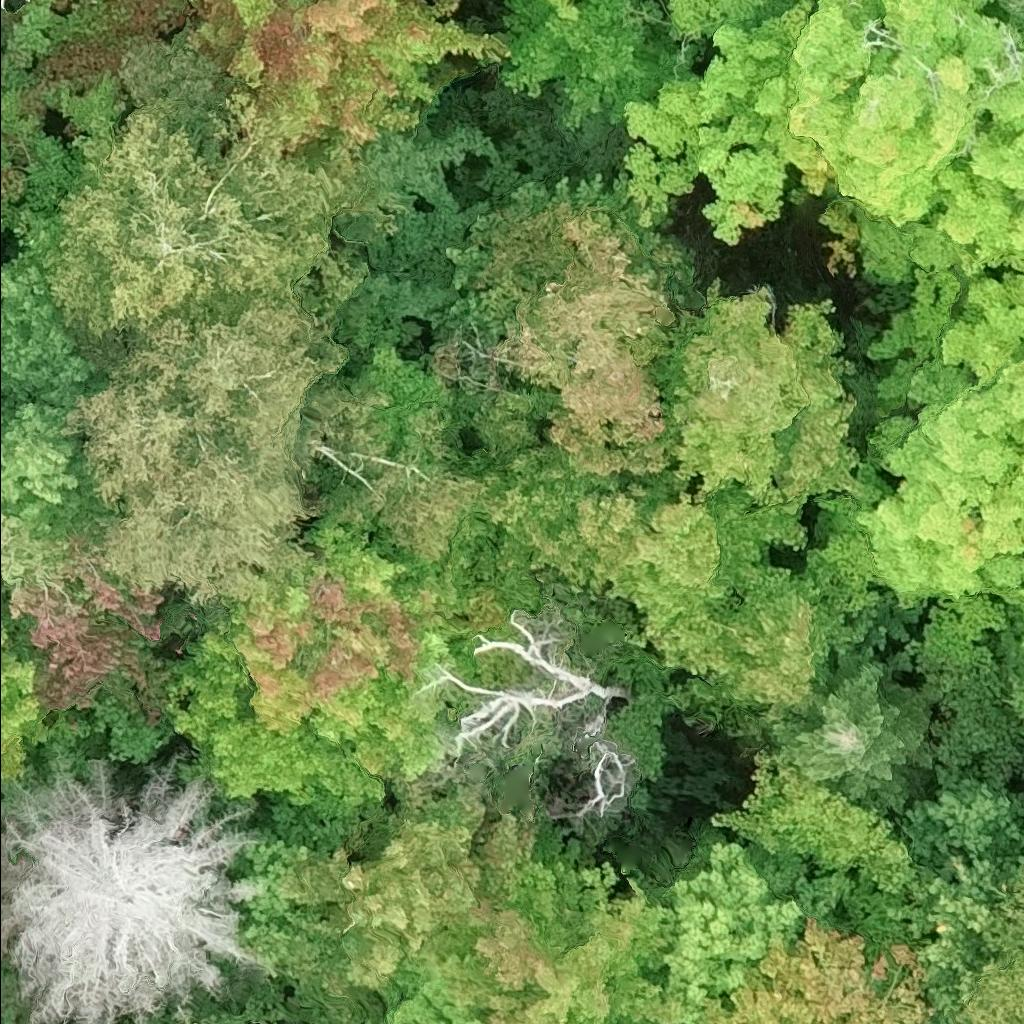crown: (9, 0, 510, 376), (162, 506, 548, 853), (621, 0, 1023, 289), (479, 442, 837, 732), (279, 785, 686, 1023), (661, 760, 1023, 1023), (428, 172, 705, 476), (74, 301, 349, 605), (46, 94, 355, 342), (0, 756, 265, 1023), (843, 264, 1023, 604), (0, 229, 145, 578), (653, 279, 865, 508), (0, 514, 181, 759), (307, 378, 542, 557), (423, 607, 634, 805), (707, 733, 921, 893), (773, 658, 933, 810), (707, 917, 934, 1023), (0, 68, 122, 249), (499, 0, 667, 124), (934, 869, 1023, 1023), (0, 613, 50, 778), (365, 978, 484, 1023), (0, 8, 29, 101), (191, 1000, 281, 1023), (527, 0, 561, 2), (0, 0, 9, 6), (151, 1020, 159, 1023), (172, 1022, 179, 1023)
